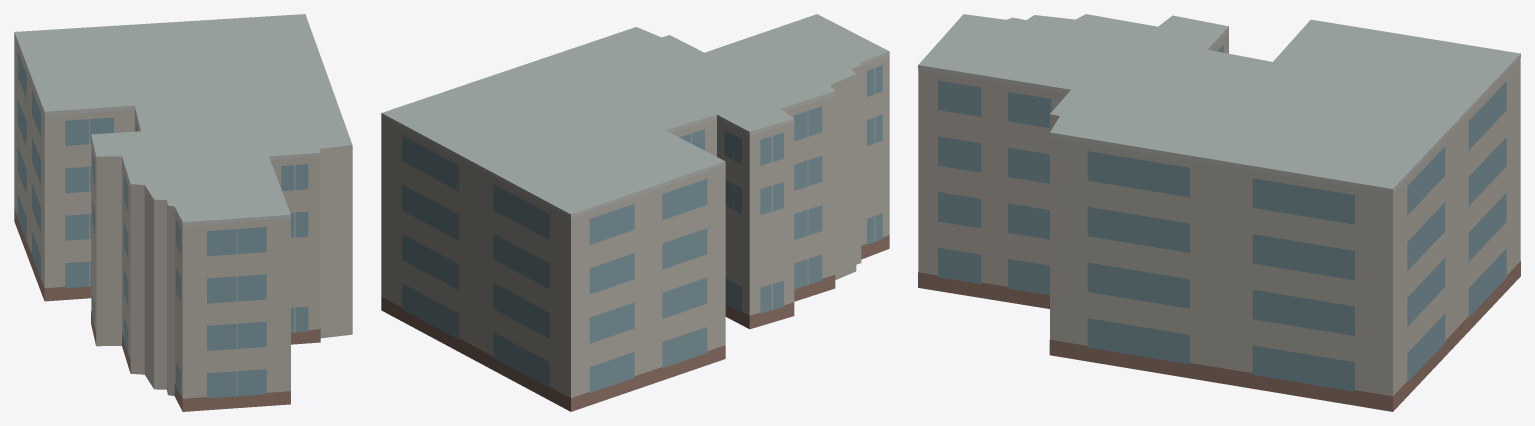
The model's file is survey-upis-32671558.glb.
3 renders of one model, left to right at view 1: azimuth 30°, elevation 25°; view 2: azimuth 150°, elevation 25°; view 3: azimuth 270°, elevation 25°, orthographic. The views are drawn at different scales.
Visible parts, largest first — view 1: survey-upis-32671558.tmp; view 2: survey-upis-32671558.tmp; view 3: survey-upis-32671558.tmp.
Part boxes in pixels (bbox=[...]): survey-upis-32671558.tmp: bbox=[14, 14, 352, 411]; survey-upis-32671558.tmp: bbox=[381, 14, 889, 411]; survey-upis-32671558.tmp: bbox=[918, 14, 1520, 411].
Bounding box in the file's own units: 20.57 × 12.2 × 29.92.
